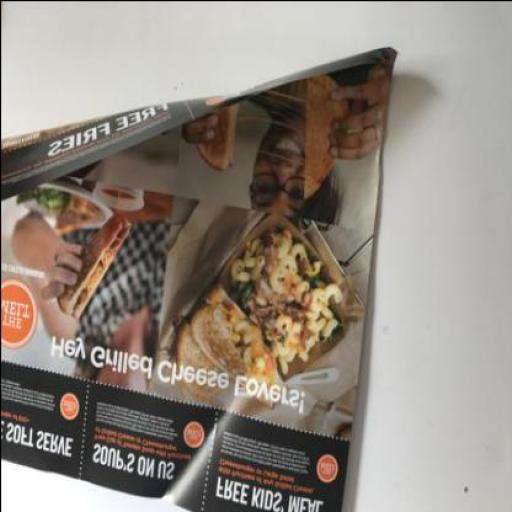paper: (1, 44, 398, 511)
